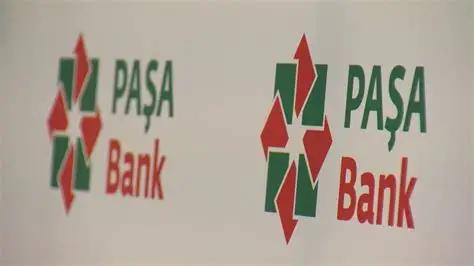Pasha Bank: (258, 30, 334, 246), (41, 32, 104, 218)
